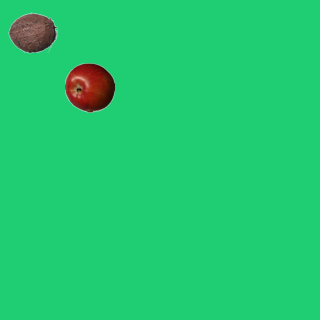Apple Braeburn: (64, 62, 114, 112)
Cocos: (7, 7, 57, 57)
